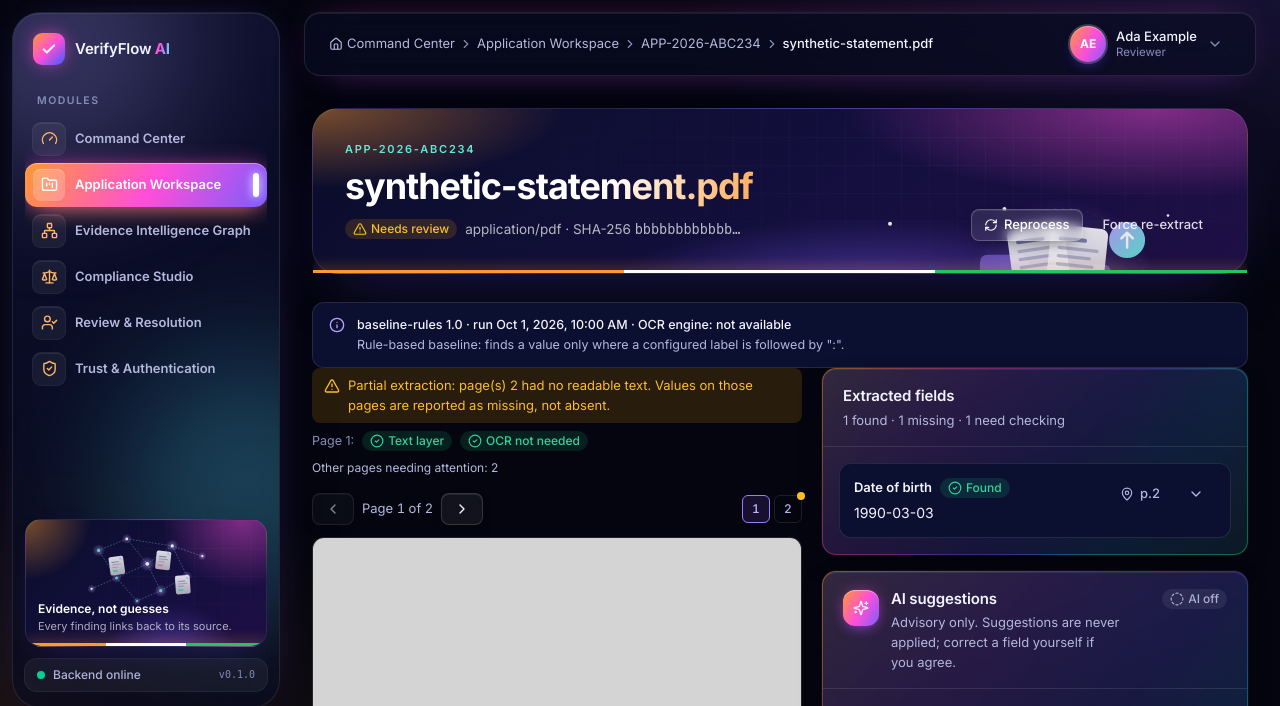
Test: extraction inspector › compares raw and normalized values and navigates to the source page
This screenshot has width=1280, height=706.
Click the button named "Show details for Date of birth". click: x=1196, y=493
box: left=1176, top=477, right=1216, bottom=509
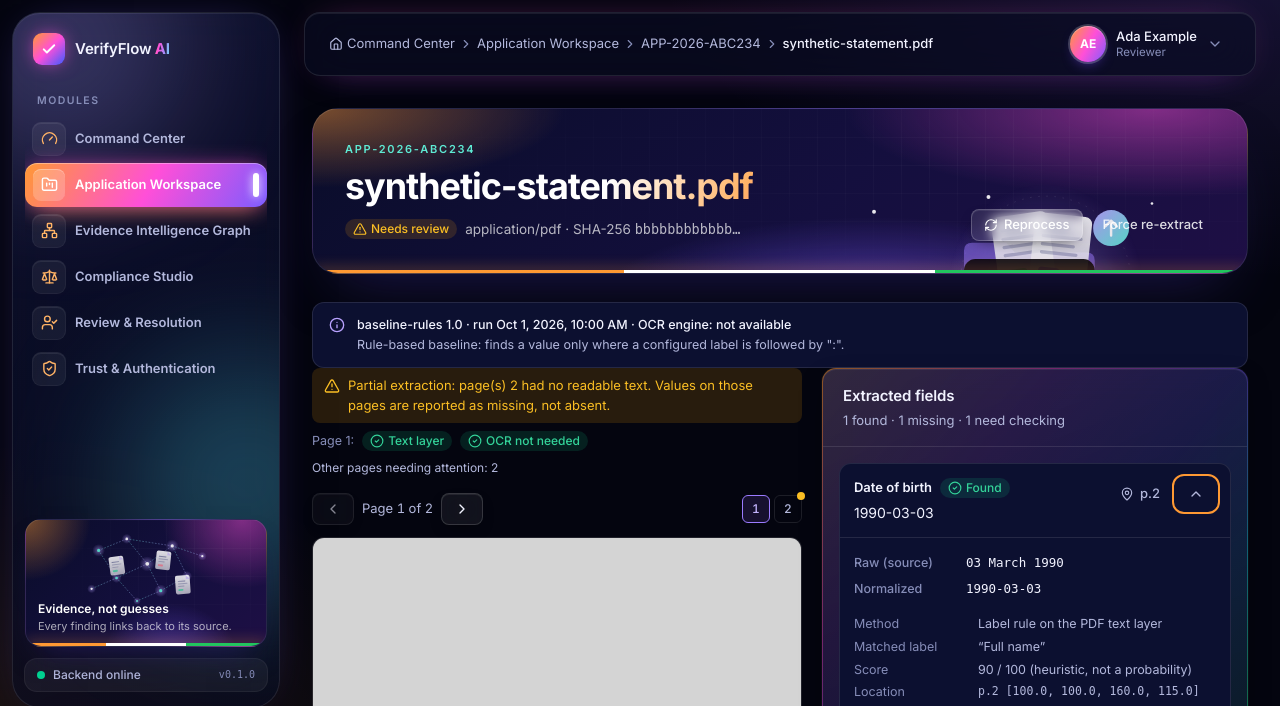
Expected: the text "03 March 1990" is shown, left=966, top=554, right=1064, bottom=569
Expected: the text "1990-03-03" below "Raw (source)" is shown, left=966, top=581, right=1041, bottom=596
Click the button named "Show Date of birth on page 2". click: x=1140, y=493
box: left=1108, top=477, right=1172, bottom=509
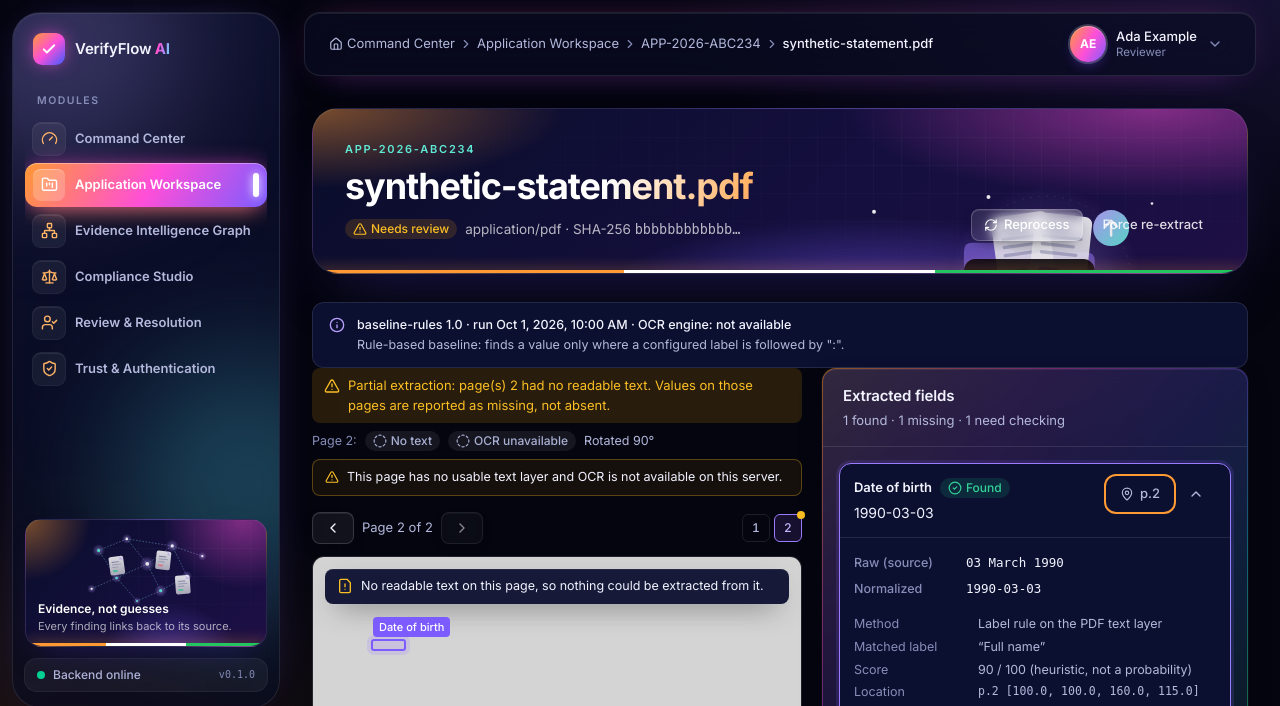
Expected: the text "Page 2 of 2" is shown, left=362, top=518, right=433, bottom=537
Expected: the text "This page has no usable text layer and OCR is not available on this server." is shown, left=312, top=458, right=802, bottom=495
Expected: the text "OCR unavailable" is shown, left=448, top=430, right=576, bottom=450
